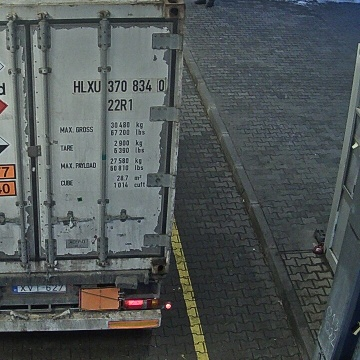serial_id: (73, 80, 165, 92)
